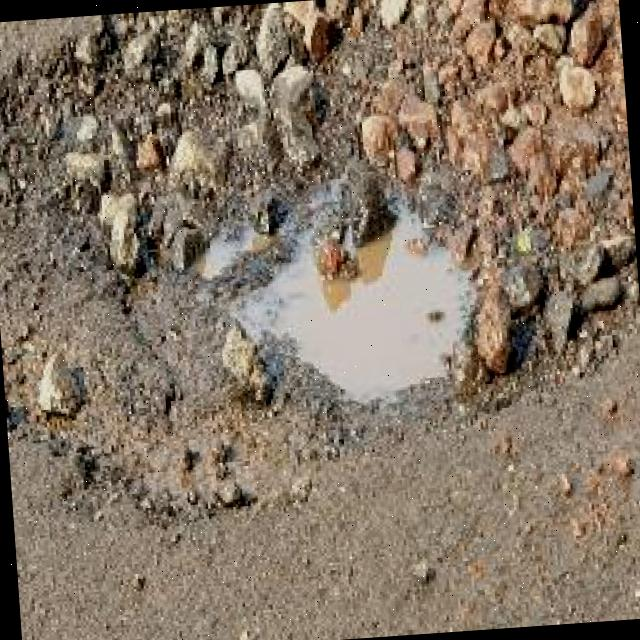stagnation: (218, 195, 487, 392)
